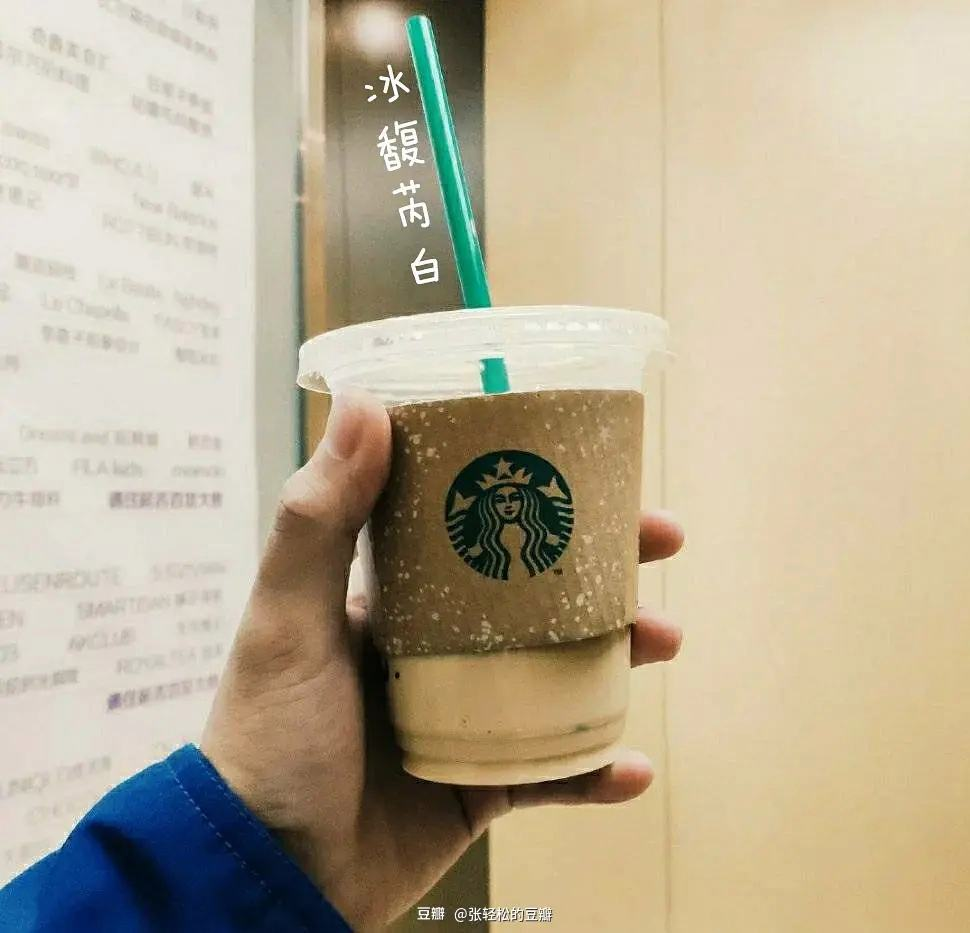no-phone: (229, 205, 700, 929)
